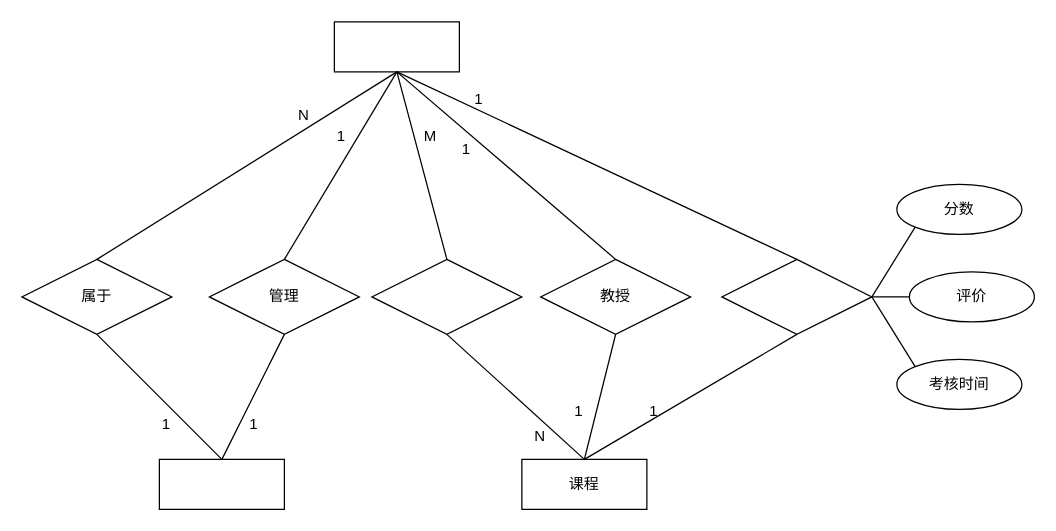
The diagram is 1056 pixels wide and 531 high, and some of its shapes have lost their labels. Each missing label, with the centre of its shape:
"人员" goes at (396,46).
"考核" goes at (796,296).
"选课" goes at (446,296).
"部门" goes at (221,483).
